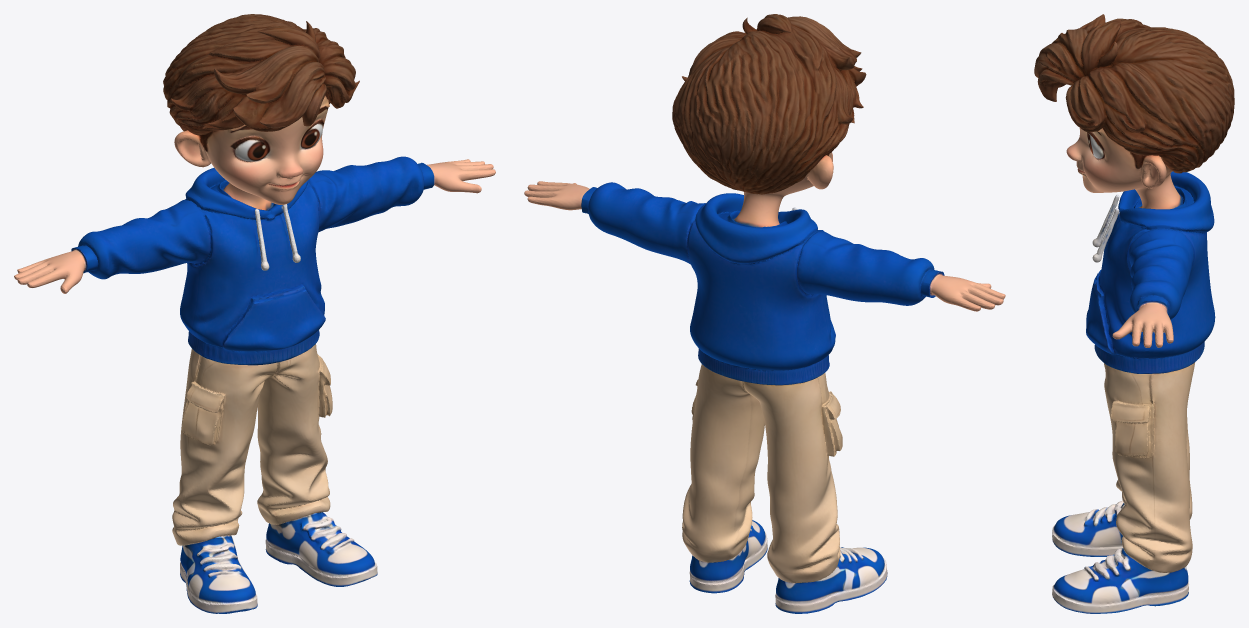
The model's file is base_basic_pbr.fbx.
3 renders of one model, left to right at view 1: azimuth 30°, elevation 25°; view 2: azimuth 150°, elevation 25°; view 3: azimuth 270°, elevation 25°, orthographic.
Parts seen in each view (by area): view 1: model; view 2: model; view 3: model.
Part boxes in pixels (<box>): model: <box>14,14,495,613</box>; model: <box>524,14,1005,613</box>; model: <box>1034,14,1234,613</box>.
Size of the model in its own units: 153 by 172 by 56.42.
1 material, 1 textured.
